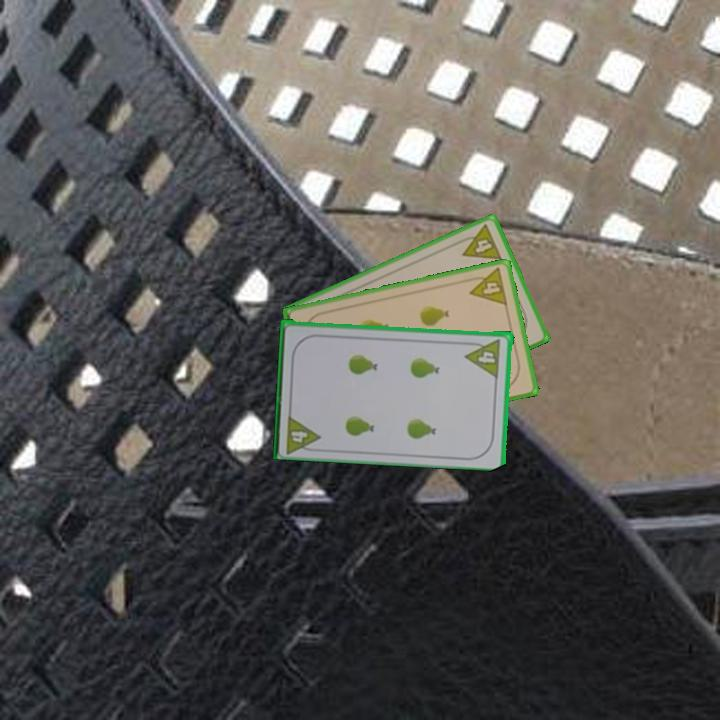4p: (454, 221, 505, 263), (464, 264, 510, 308), (282, 410, 324, 455), (463, 335, 504, 380)
